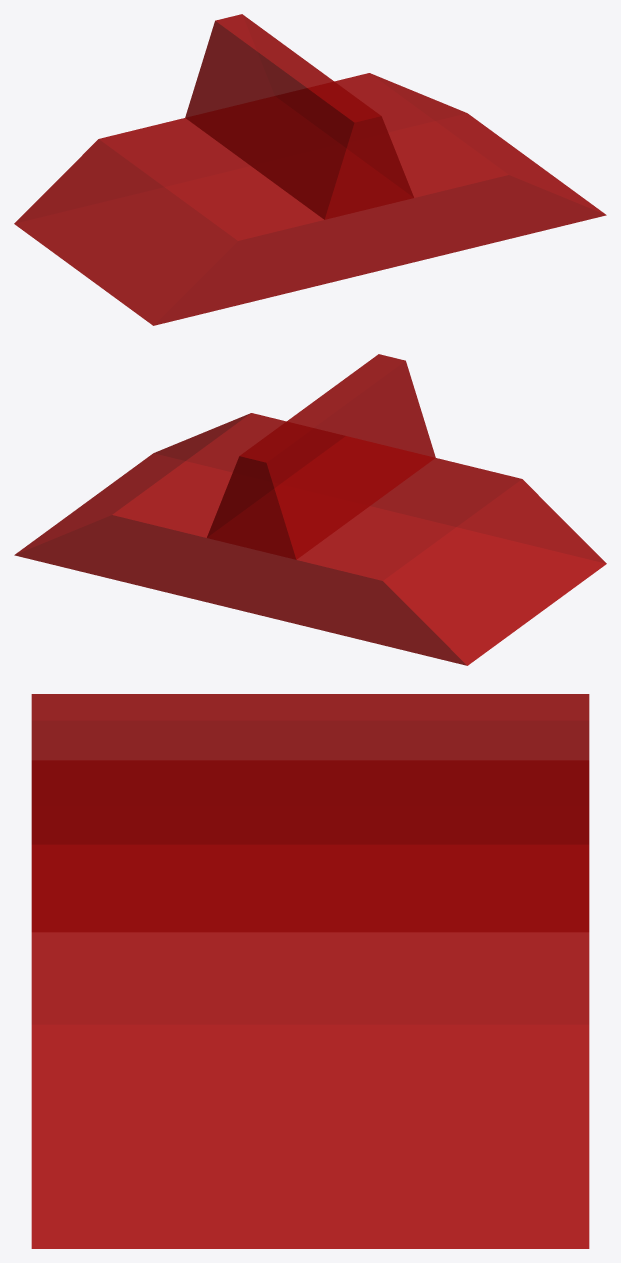
File: SM_Bld_Tent_Desert_01_Collision.fbx
The picture shows the model from 3 angles, top to bottom: view 1: azimuth 30°, elevation 25°; view 2: azimuth 150°, elevation 25°; view 3: azimuth 270°, elevation 25°; orthographic projection. The views are drawn at different scales.
Parts seen in each view (by area): view 1: SM_Bld_Tent_Desert_01_Collision; view 2: SM_Bld_Tent_Desert_01_Collision; view 3: SM_Bld_Tent_Desert_01_Collision.
Part boxes in pixels (x1,y1,x2,y2): SM_Bld_Tent_Desert_01_Collision: (14,14,606,325); SM_Bld_Tent_Desert_01_Collision: (14,354,606,665); SM_Bld_Tent_Desert_01_Collision: (31,694,589,1248).
Bounding box in the file's own units: 574 × 186 × 306.
